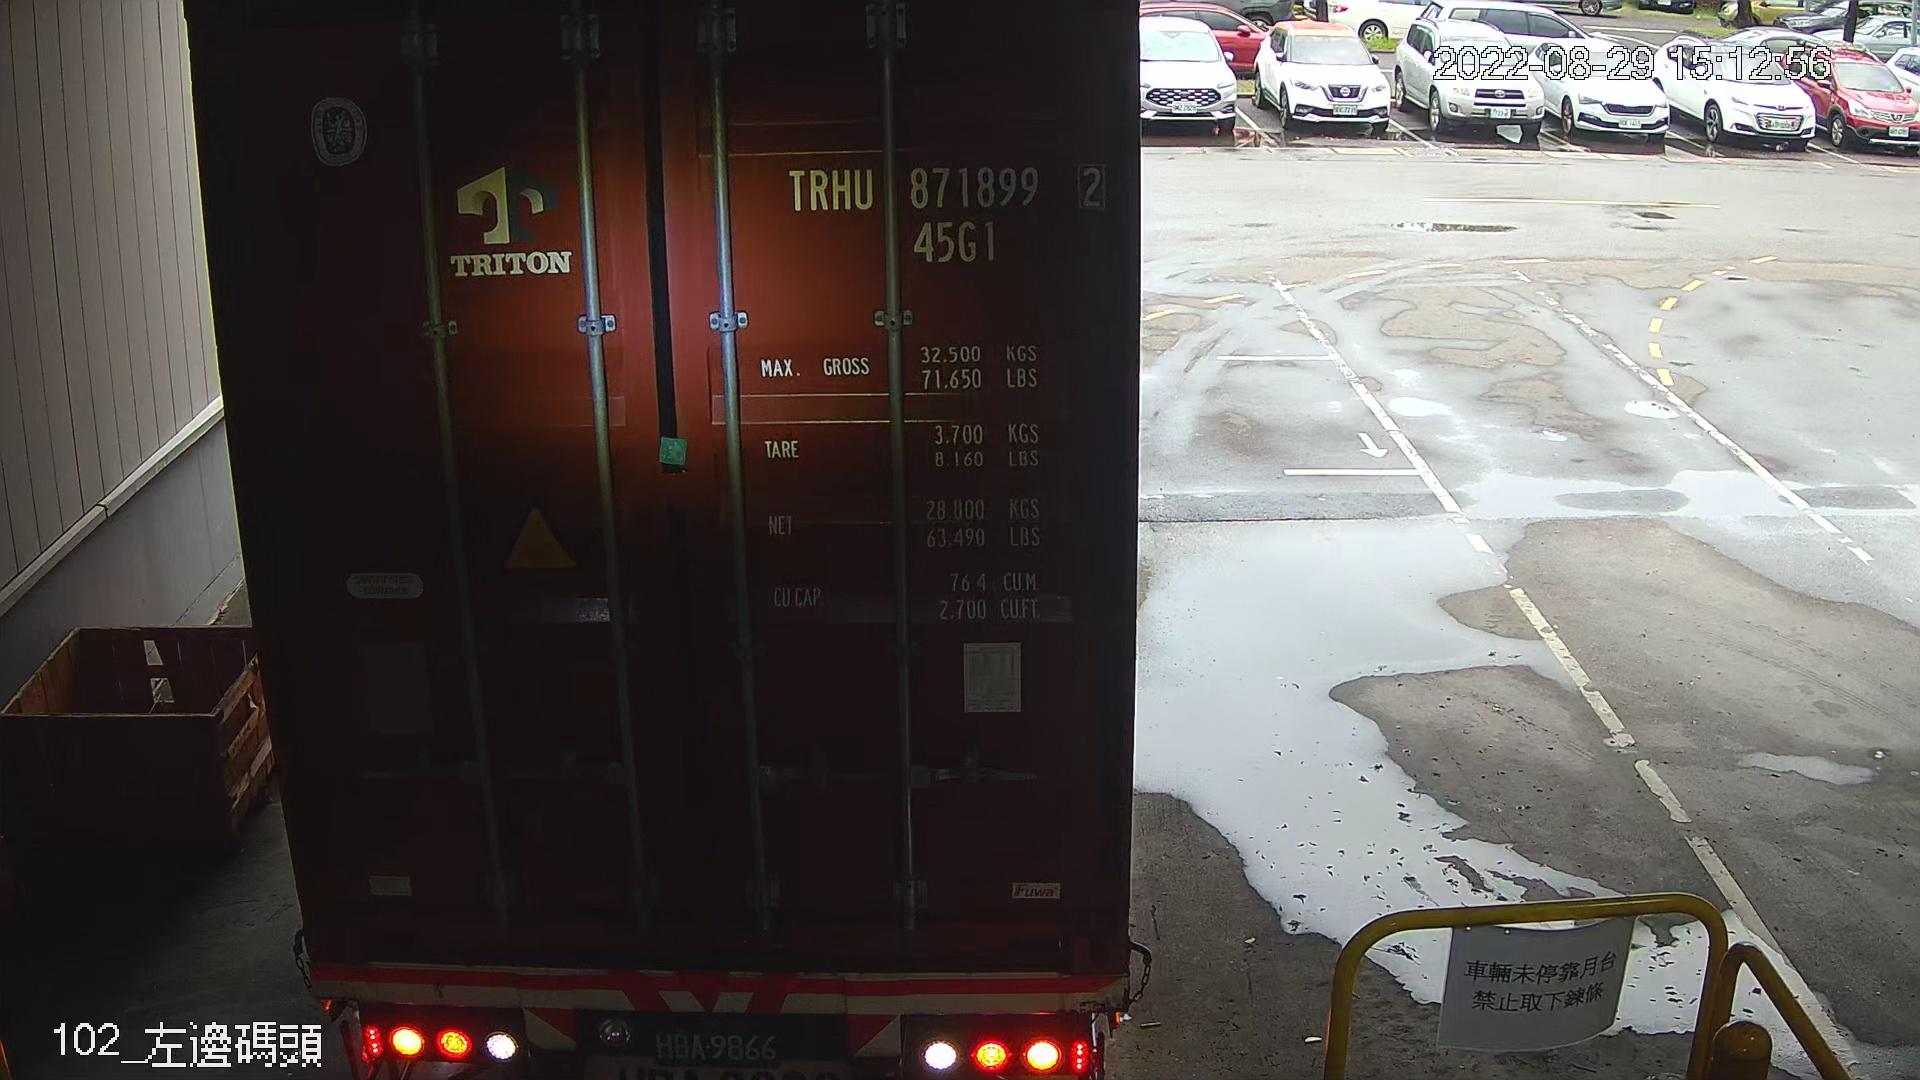container: (767, 152, 1114, 276)
